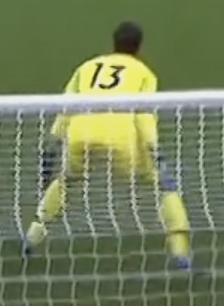goalkeeper: (12, 4, 224, 283)
